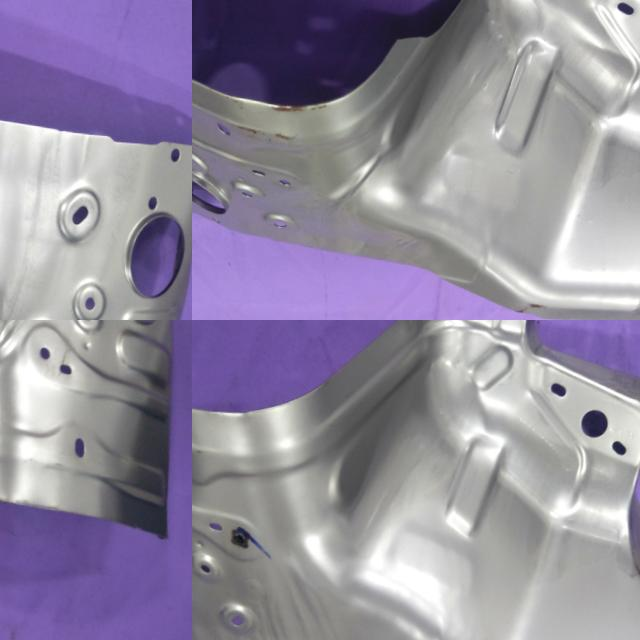Defect: (394, 0, 474, 44)
Healthy: (192, 320, 640, 640)
rust: (206, 83, 353, 160)
